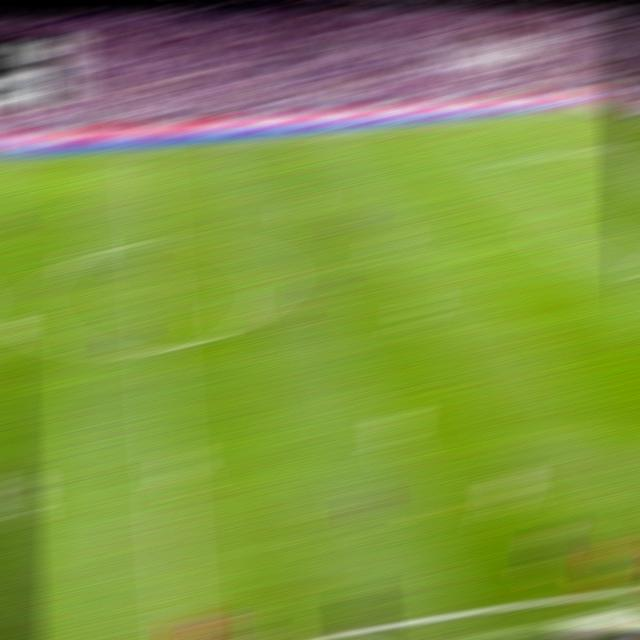bigarea_top_inner: (488, 154, 517, 167)
corner: (576, 105, 604, 112)
halfcircle_bottom: (143, 334, 177, 363)
halfcircle_top: (136, 229, 168, 250)
midline_top_intersection: (130, 146, 160, 159)
top_arc_area_intersection: (544, 198, 574, 211)
